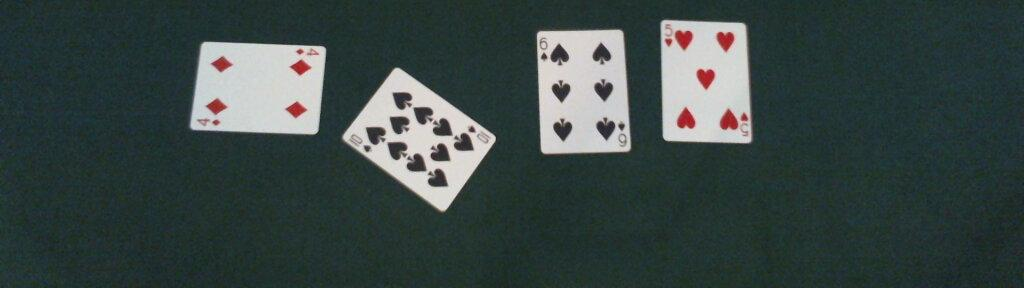five: (659, 19, 752, 142)
four: (188, 41, 326, 135)
six: (534, 28, 631, 154)
ten: (342, 66, 496, 213)
